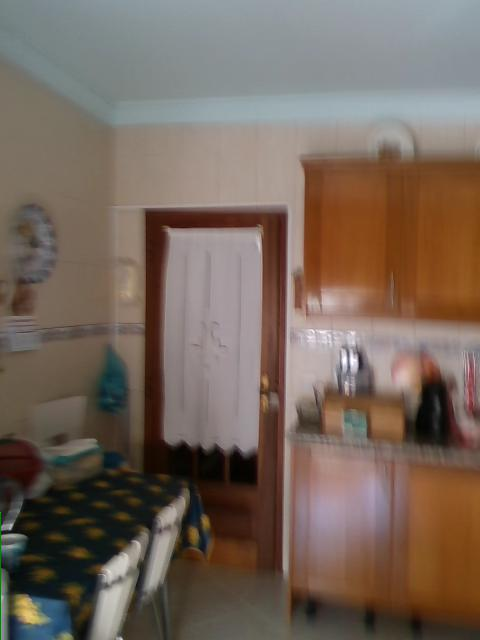door: (142, 206, 286, 577)
